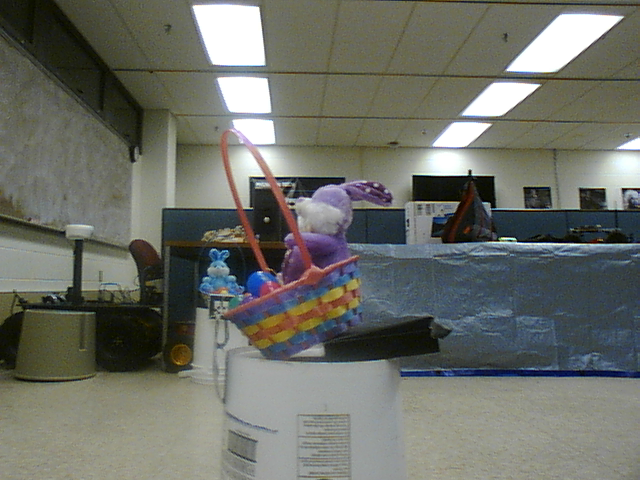bunny: (212, 125, 396, 362), (200, 240, 243, 303)
